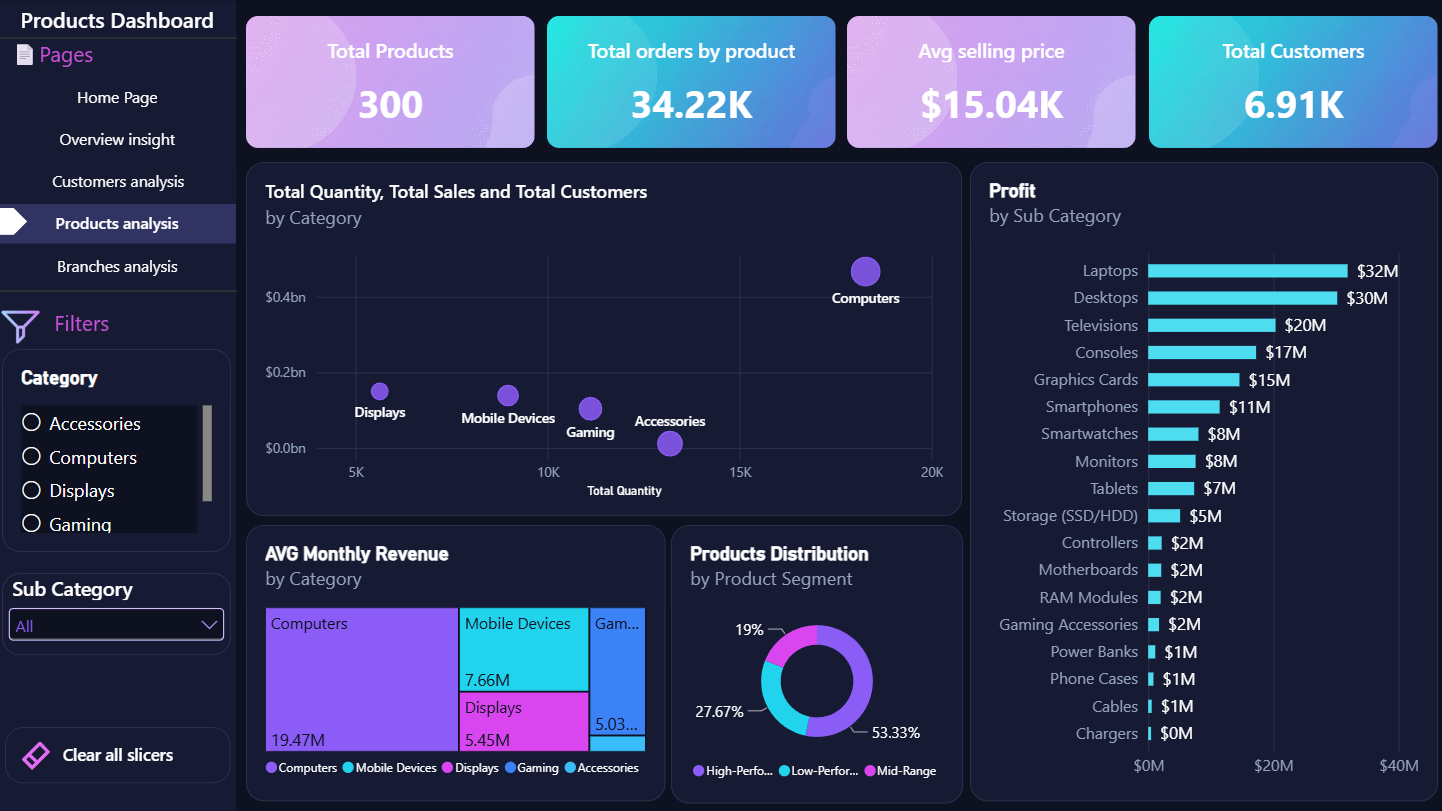

Layout of this report page (visuals, bound fields, positions):
{"tool":"powerbi","page":{"name":"Products analysis","canvas":[1280,720],"ordinal":3},"visuals":[{"type":"shape","box":[0,0,211.5,720],"z":0},{"type":"cardVisual","fields":{"Data":["Count(gold report_products.product_key)"]},"box":[219.9,15.1,256.9,117.3],"z":1000},{"type":"donutChart","fields":{"Category":["gold report_products.product_segment"],"Y":["Count(gold report_products.product_key)"]},"box":[597,466.4,258.9,247.4],"z":2000},{"type":"cardVisual","fields":{"Data":["Sum(gold report_products.total_orders)"]},"box":[486.6,15.1,256.9,117.3],"z":3000},{"type":"clusteredBarChart","fields":{"Category":["gold report_products.category_name","gold report_products.sub_category","gold report_products.product_name"],"Y":["Sum(gold report_products.product_profit)"]},"box":[861.9,144.5,415,566.6],"z":4000},{"type":"textbox","box":[0,5,211.5,36.9],"z":5000,"group":"g2"},{"type":"shape","box":[0,252.9,211.5,12.6],"z":5000},{"type":"textbox","box":[6.3,35,83,31.5],"z":6000,"group":"g2"},{"type":"textbox","box":[0,273.6,148.5,35.1],"z":6000},{"type":"image","box":[0,273.6,39.6,34.2],"z":7000},{"type":"listSlicer","fields":{"Values":["gold report_products.category_name"]},"box":[3.5,310,203.1,180],"z":8000},{"type":"slicer","fields":{"Values":["gold report_products.sub_category"]},"box":[3.5,509,203,72.9],"z":9000},{"type":"actionButton","box":[6.2,645.5,200,50],"z":10000},{"type":"scatterChart","fields":{"Category":["gold report_products.category_name","gold report_products.sub_category"],"Size":["Sum(gold report_products.total_customers)"],"X":["Sum(gold report_products.total_quantity)"],"Y":["Sum(gold report_products.total_sales)"]},"box":[219.9,144.5,635,313.9],"z":11000},{"type":"cardVisual","fields":{"Data":["_Measures.Total Customers"]},"box":[1020.6,15.1,256.9,117.3],"z":12000},{"type":"cardVisual","fields":{"Data":["Avg(gold report_products.avg_selling_price)"]},"box":[753,15.1,256.9,117.3],"z":13000},{"type":"actionButton","box":[0,182.1,211,35],"z":13000,"group":"g1"},{"type":"shape","box":[0,185.7,26,23.9],"z":14000,"group":"g1"},{"type":"treemap","fields":{"Group":["gold report_products.category_name","gold report_products.sub_category"],"Values":["Sum(gold report_products.avg_monthly_revenue)"]},"box":[219.9,466.4,371.5,244.7],"z":14000},{"type":"actionButton","box":[0.9,144.8,211.5,35],"z":15000},{"type":"actionButton","box":[0,220,211.5,35],"z":16000},{"type":"actionButton","box":[0,70,211.5,35],"z":17000},{"type":"group","id":"g1","title":"Group 1","box":[0,182.1,211,35.5],"z":18000},{"type":"actionButton","box":[0,107.4,211.5,35],"z":19000},{"type":"group","id":"g2","title":"Group 2","box":[0,5,211.5,61.5],"z":20000},{"type":"shape","box":[0,28.4,211.5,12.6],"z":24000,"group":"g2"}]}

Visuals, with their boxes on the page's 1280x720 design canvas (x1, y1, x2, y2). These are canvas units, not pixel positions in the 1442x811 screenshot, which may show the page scaled, cropped or inside an application window:
shape: bbox=[0, 0, 212, 720]
cardVisual - Count(gold report_products.product_key): bbox=[220, 15, 477, 132]
donutChart - gold report_products.product_segment x Count(gold report_products.product_key): bbox=[597, 466, 856, 714]
cardVisual - Sum(gold report_products.total_orders): bbox=[487, 15, 744, 132]
clusteredBarChart - gold report_products.category_name x gold report_products.sub_category: bbox=[862, 144, 1277, 711]
textbox: bbox=[0, 5, 212, 42]
shape: bbox=[0, 253, 212, 266]
textbox: bbox=[6, 35, 89, 66]
textbox: bbox=[0, 274, 148, 309]
image: bbox=[0, 274, 40, 308]
listSlicer - gold report_products.category_name: bbox=[4, 310, 207, 490]
slicer - gold report_products.sub_category: bbox=[4, 509, 206, 582]
actionButton: bbox=[6, 646, 206, 696]
scatterChart - gold report_products.category_name x gold report_products.sub_category: bbox=[220, 144, 855, 458]
cardVisual - _Measures.Total Customers: bbox=[1021, 15, 1278, 132]
cardVisual - Avg(gold report_products.avg_selling_price): bbox=[753, 15, 1010, 132]
actionButton: bbox=[0, 182, 211, 217]
shape: bbox=[0, 186, 26, 210]
treemap - gold report_products.category_name x gold report_products.sub_category: bbox=[220, 466, 591, 711]
actionButton: bbox=[1, 145, 212, 180]
actionButton: bbox=[0, 220, 212, 255]
actionButton: bbox=[0, 70, 212, 105]
"Group 1" group: bbox=[0, 182, 211, 218]
actionButton: bbox=[0, 107, 212, 142]
"Group 2" group: bbox=[0, 5, 212, 66]
shape: bbox=[0, 28, 212, 41]
